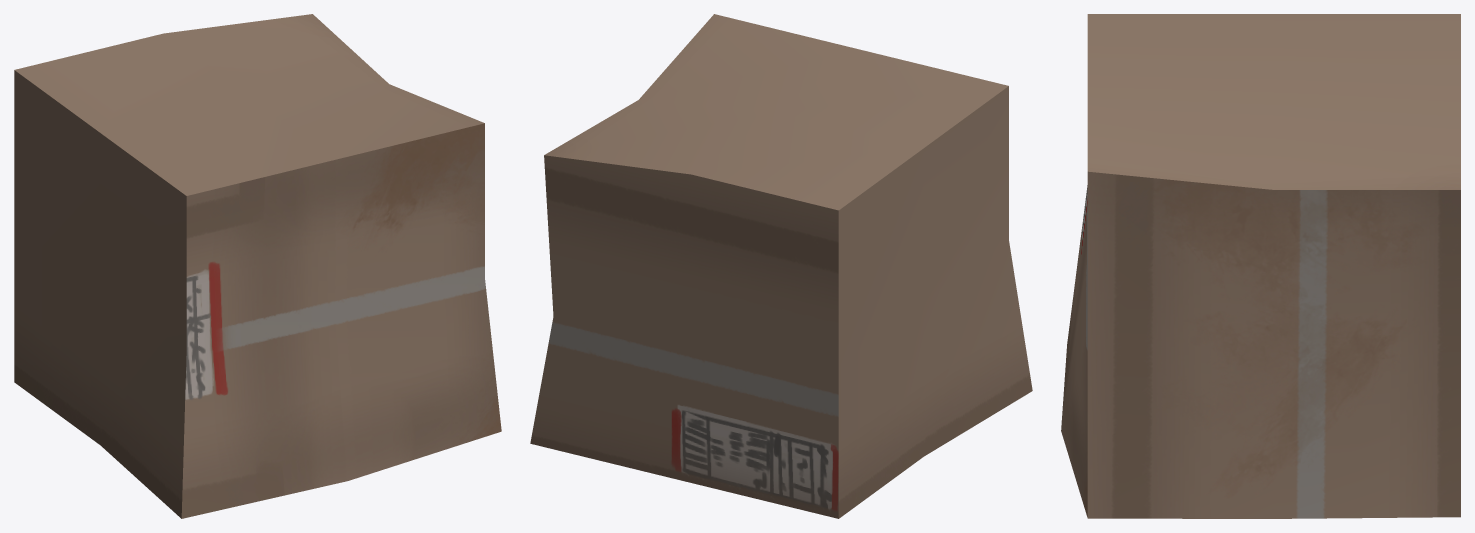
Rendered from Cardboardbox_Square.fbx.
The picture shows the model from 3 angles, left to right: view 1: azimuth 30°, elevation 25°; view 2: azimuth 150°, elevation 25°; view 3: azimuth 270°, elevation 25°; orthographic projection. The views are drawn at different scales.
Parts seen in each view (by area): view 1: Cardboard_Square:Cardboardbox_Square:pCube1; view 2: Cardboard_Square:Cardboardbox_Square:pCube1; view 3: Cardboard_Square:Cardboardbox_Square:pCube1.
Boxes of the visible parts, x1,y1,x2,y2 form: Cardboard_Square:Cardboardbox_Square:pCube1: (14,14,501,518); Cardboard_Square:Cardboardbox_Square:pCube1: (530,14,1032,518); Cardboard_Square:Cardboardbox_Square:pCube1: (1061,14,1460,518).
Bounding box in the file's own units: 2.13 × 1.93 × 2.06.
